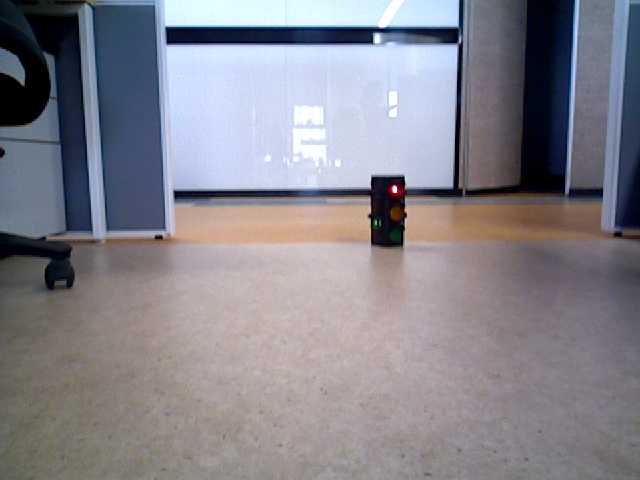red: (372, 176, 404, 247)
